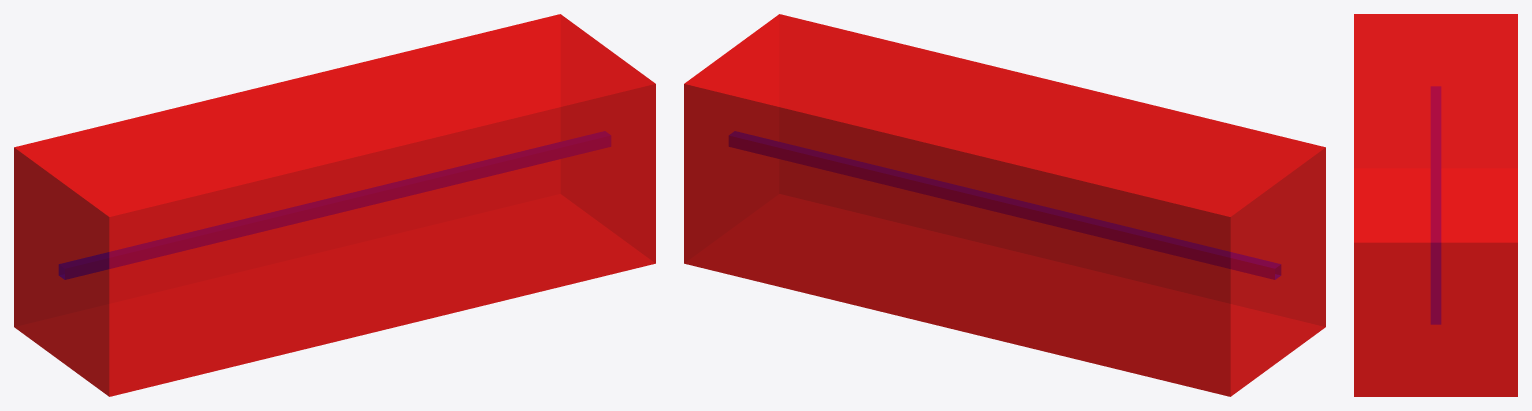
Rendered from electric block.dae.
3 renders of one model, left to right at view 1: azimuth 30°, elevation 25°; view 2: azimuth 150°, elevation 25°; view 3: azimuth 270°, elevation 25°, orthographic. The views are drawn at different scales.
Visible parts, largest first — view 1: SketchUp (×3); view 2: SketchUp (×3); view 3: SketchUp (×3).
Boxes of the visible parts, x1,y1,x2,y2 form: SketchUp (×3): (14, 14, 655, 396); SketchUp (×3): (684, 14, 1325, 396); SketchUp (×3): (1354, 14, 1517, 396).
Bounding box in the file's own units: 51.88 × 15.69 × 16.31.
